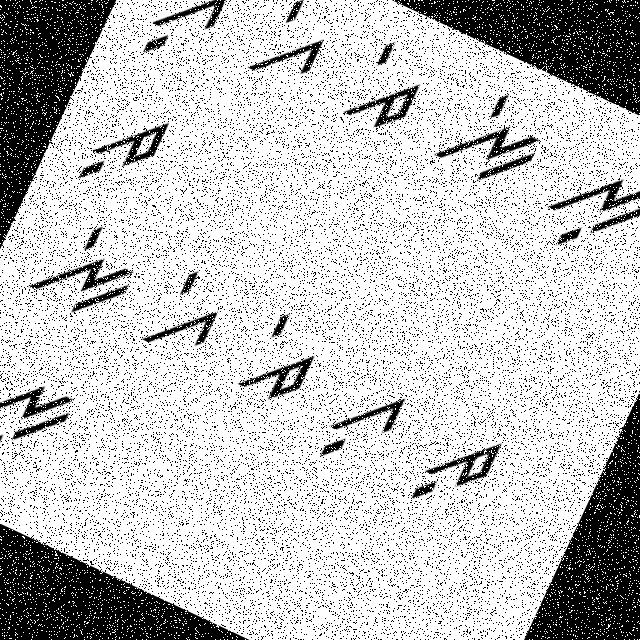ge: (131, 255, 236, 372), (243, 0, 347, 102)
gu: (301, 362, 417, 484), (126, 0, 241, 84)
nge: (424, 69, 558, 201), (22, 205, 150, 332)
ngu: (533, 144, 639, 283), (0, 350, 86, 486)
te: (327, 29, 442, 147), (226, 300, 335, 420)
tu: (398, 408, 512, 533), (67, 86, 179, 207)
